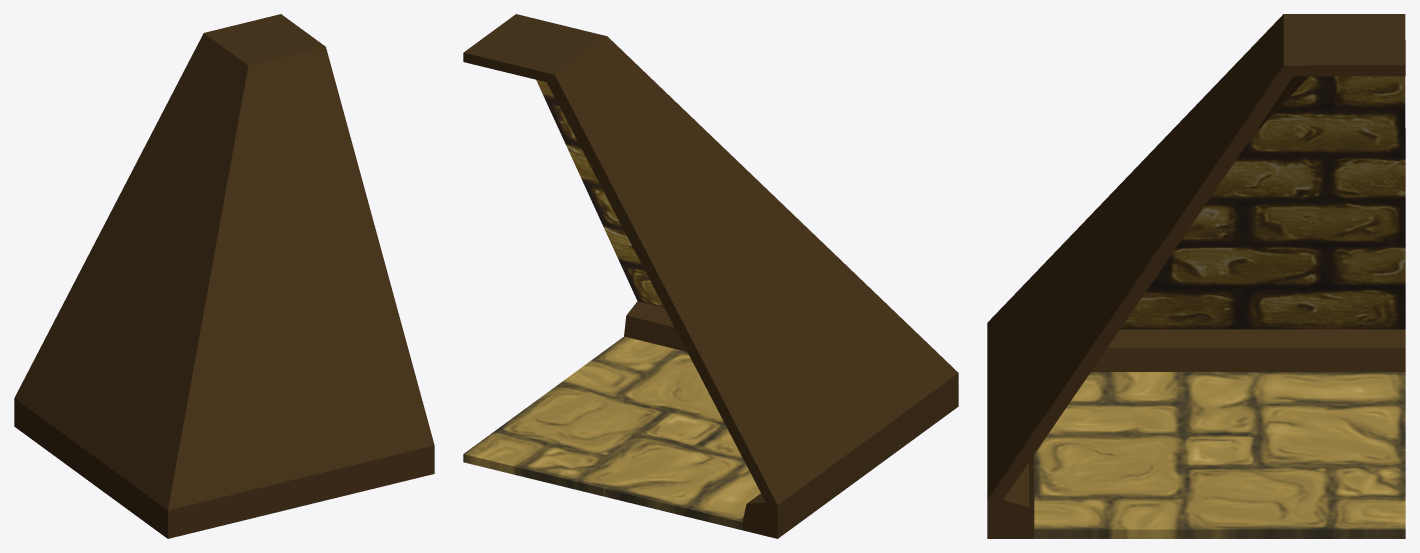
The model's file is Wall2.FBX.
3 renders of one model, left to right at view 1: azimuth 30°, elevation 25°; view 2: azimuth 150°, elevation 25°; view 3: azimuth 270°, elevation 25°, orthographic. The views are drawn at different scales.
Visible parts, largest first — view 1: Corner; view 2: Corner; view 3: Corner.
Part boxes in pixels (left/top/right/bottom): Corner: left=14, top=14, right=434, bottom=538; Corner: left=463, top=14, right=958, bottom=538; Corner: left=987, top=14, right=1405, bottom=538.
Bounding box in the file's own units: 79.06 × 98.43 × 78.81.
